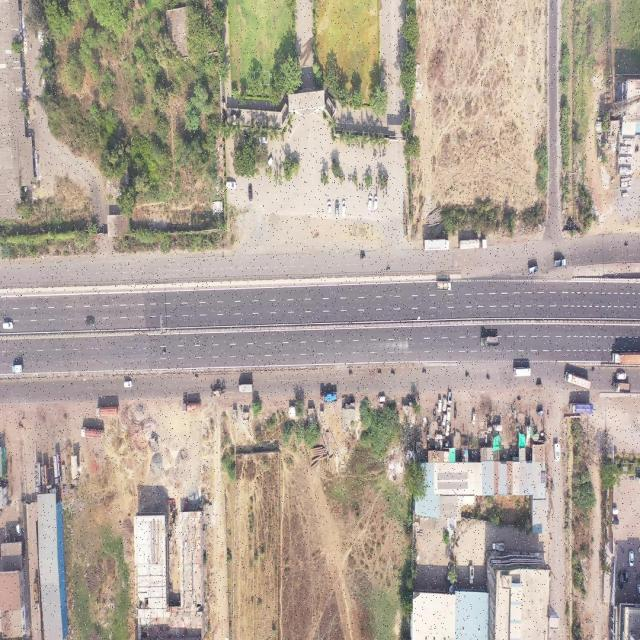3W: (492, 424, 502, 432), (536, 410, 544, 416), (536, 382, 542, 388), (361, 256, 366, 260)
Bus: (514, 367, 531, 377), (46, 467, 54, 488)
Cars: (618, 573, 624, 590), (628, 551, 634, 567), (367, 194, 373, 210), (248, 184, 253, 202), (16, 522, 22, 536), (226, 181, 236, 189), (445, 421, 450, 436), (442, 397, 447, 412), (327, 201, 332, 216), (335, 200, 339, 218), (3, 322, 13, 329), (616, 372, 626, 379), (471, 411, 476, 425), (342, 200, 346, 217), (373, 196, 378, 209), (636, 582, 640, 598), (438, 398, 442, 414), (86, 319, 95, 326), (124, 381, 132, 388), (612, 517, 619, 525), (612, 507, 619, 515), (447, 406, 451, 420), (624, 570, 628, 583), (378, 396, 386, 402)
LCV: (612, 381, 630, 393), (436, 281, 452, 291), (554, 443, 561, 462), (12, 364, 24, 374), (238, 384, 252, 392), (469, 565, 474, 585), (528, 265, 539, 274), (492, 543, 504, 551), (555, 259, 566, 267), (448, 391, 452, 404)
M2W: (162, 349, 166, 355), (466, 372, 470, 378), (635, 147, 639, 153), (358, 183, 361, 190), (384, 148, 386, 158), (422, 370, 427, 374), (386, 268, 391, 272), (375, 148, 377, 157), (373, 148, 375, 157), (382, 190, 384, 199), (382, 149, 384, 157), (379, 150, 381, 158), (349, 372, 353, 376), (378, 372, 382, 376), (486, 376, 490, 380), (624, 244, 628, 248), (391, 372, 395, 376), (274, 169, 276, 176), (548, 411, 550, 418), (517, 397, 521, 400), (592, 369, 596, 372), (195, 376, 198, 379), (376, 176, 377, 184), (357, 184, 358, 192), (351, 174, 352, 182), (348, 174, 349, 182), (376, 186, 377, 193), (386, 188, 387, 195), (352, 175, 353, 182), (358, 141, 359, 148), (363, 176, 364, 182), (362, 182, 362, 191), (344, 174, 344, 181), (354, 142, 354, 148)
MAV: (565, 372, 591, 389), (458, 239, 486, 250), (424, 238, 449, 250), (570, 402, 593, 414), (81, 427, 102, 439), (34, 462, 41, 494), (32, 582, 40, 610), (71, 455, 78, 486), (97, 407, 117, 417), (182, 402, 201, 412)
Truck: (320, 393, 338, 403)
